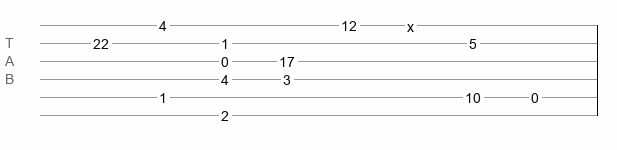0: (221, 54, 229, 64), (531, 90, 539, 100)
1: (159, 90, 167, 100), (221, 36, 229, 46)
10: (465, 90, 481, 100)
12: (341, 18, 357, 28)
17: (279, 54, 295, 64)
2: (221, 108, 229, 118)
22: (93, 36, 109, 46)
3: (283, 72, 291, 82)
4: (159, 18, 167, 28), (221, 72, 229, 82)
5: (469, 36, 477, 46)
x: (407, 19, 414, 27)
